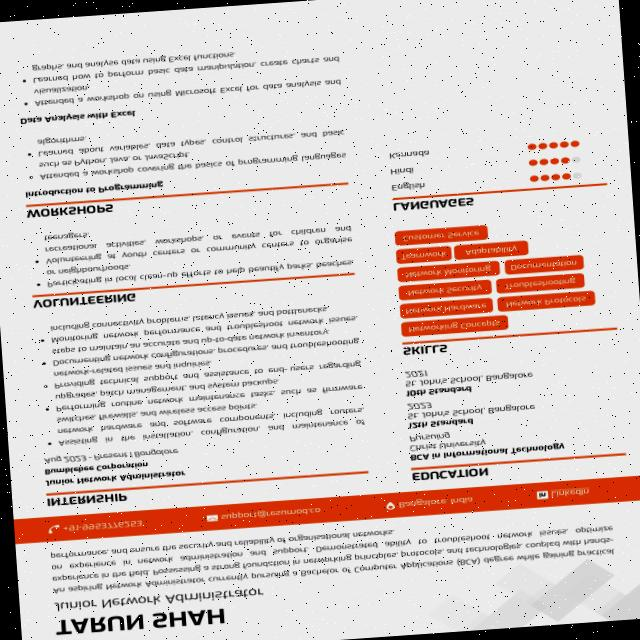contact: (13, 476, 640, 541)
education: (401, 348, 638, 486)
experience: (22, 294, 380, 515)
header: (29, 582, 284, 640)
languages: (381, 95, 610, 212)
projects: (4, 34, 364, 222)
skills: (385, 196, 612, 362)
summary: (36, 508, 625, 594)
